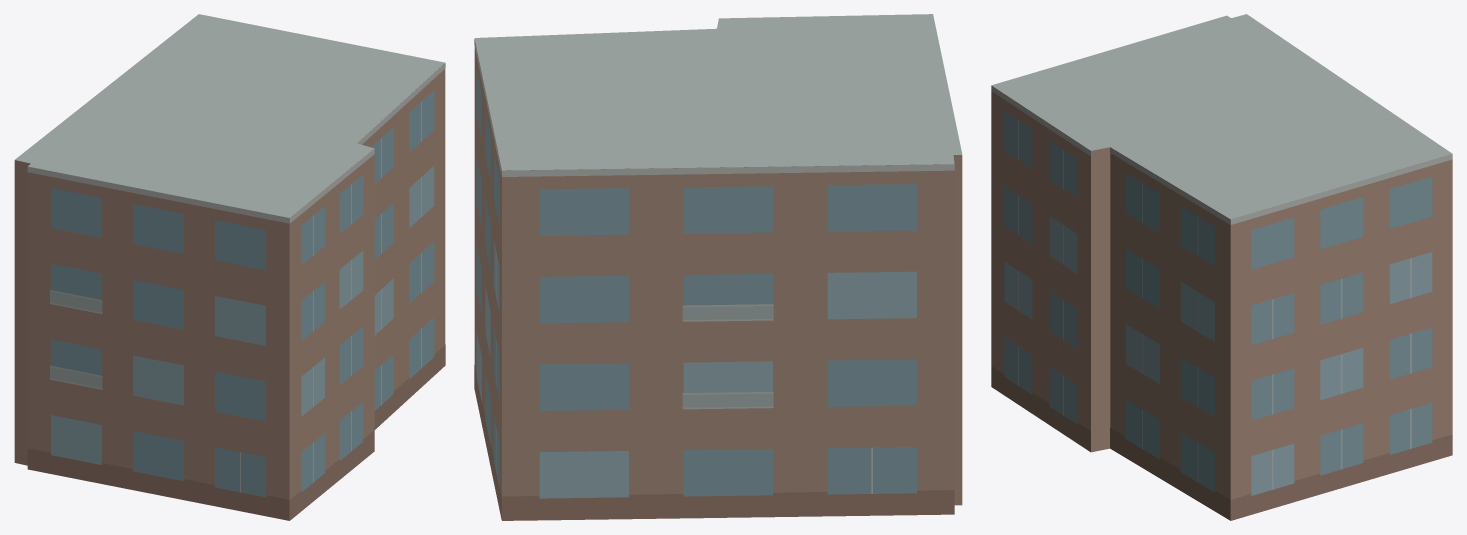
The model's file is survey-upis-32625323.glb.
The picture shows the model from 3 angles, left to right: view 1: azimuth 30°, elevation 25°; view 2: azimuth 150°, elevation 25°; view 3: azimuth 270°, elevation 25°; orthographic projection. The views are drawn at different scales.
Visible parts, largest first — view 1: survey-upis-32625323.tmp; view 2: survey-upis-32625323.tmp; view 3: survey-upis-32625323.tmp.
Part boxes in pixels (box(x1,y1,x2,y2)): survey-upis-32625323.tmp: box(14, 14, 445, 520); survey-upis-32625323.tmp: box(474, 14, 962, 520); survey-upis-32625323.tmp: box(991, 14, 1452, 520).
Bounding box in the file's own units: 19.15 × 13.1 × 18.18.
